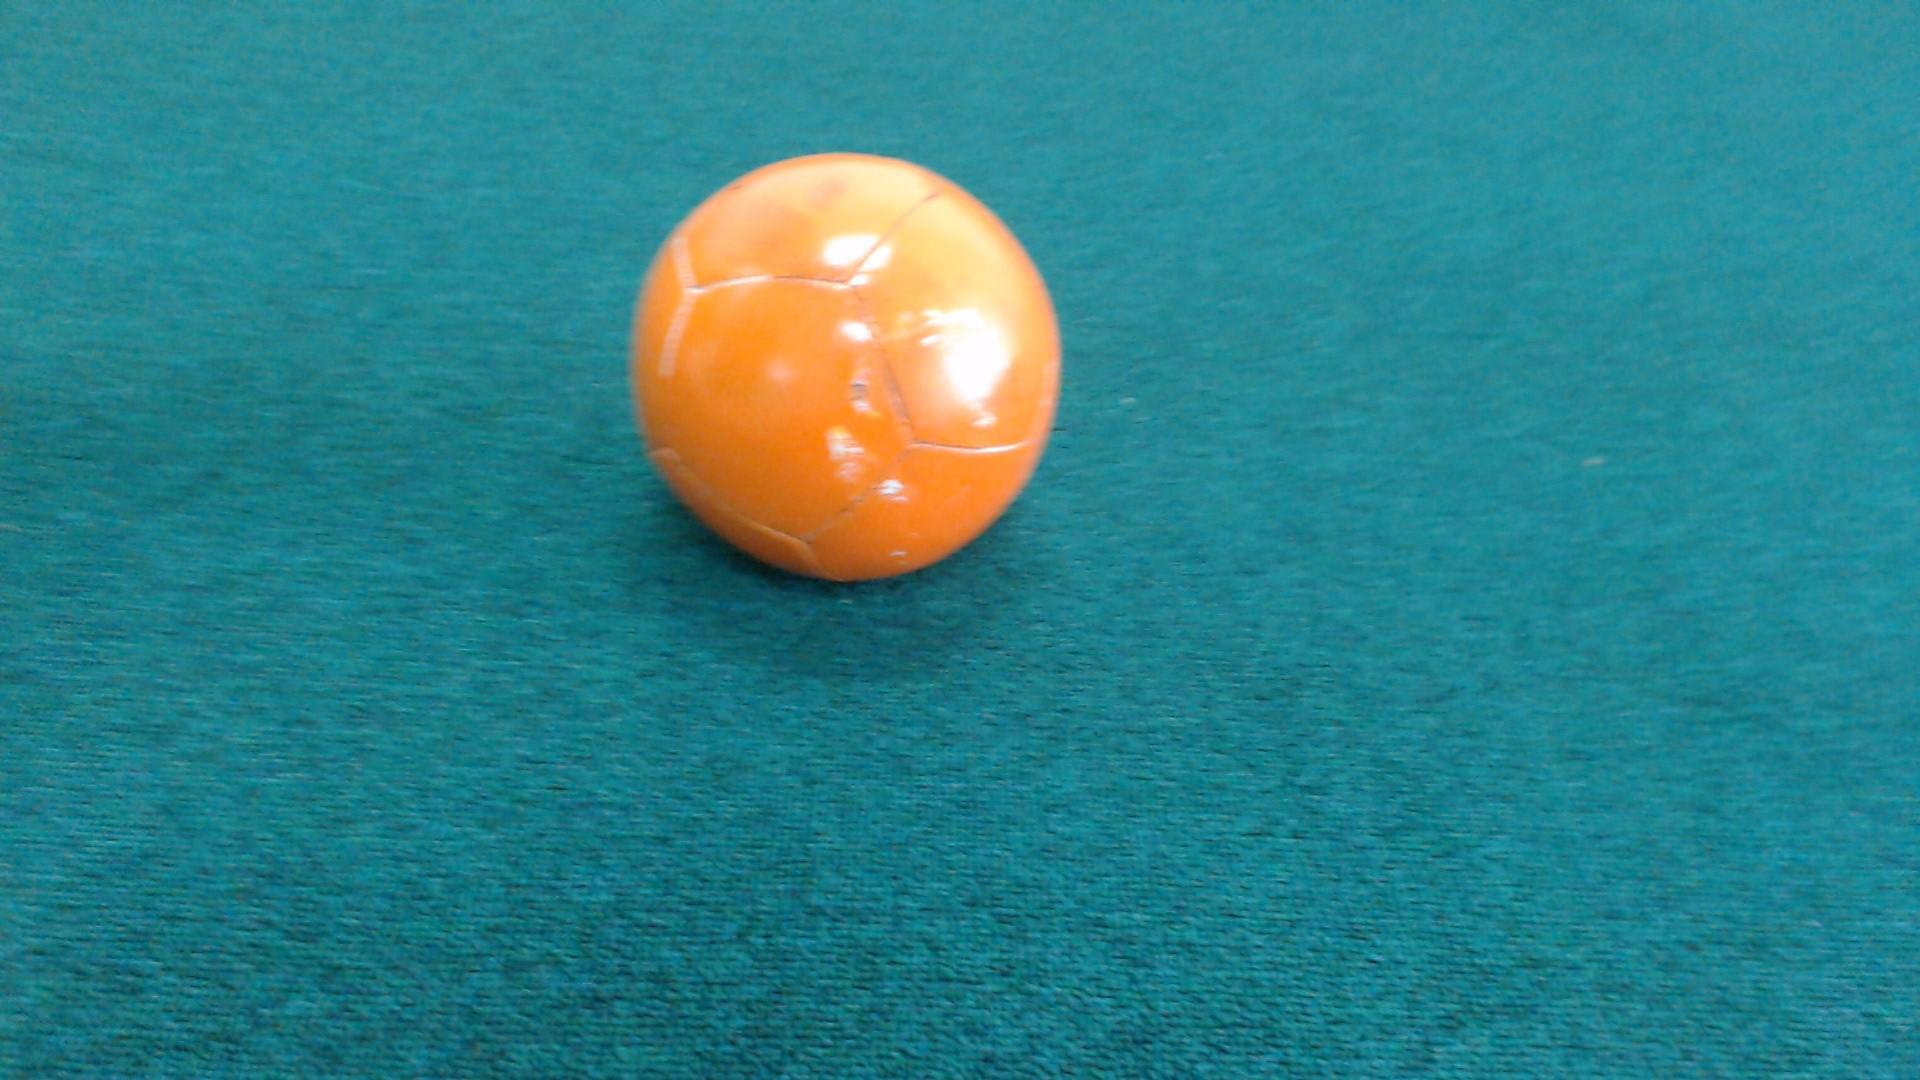bola: (589, 117, 1112, 604)
